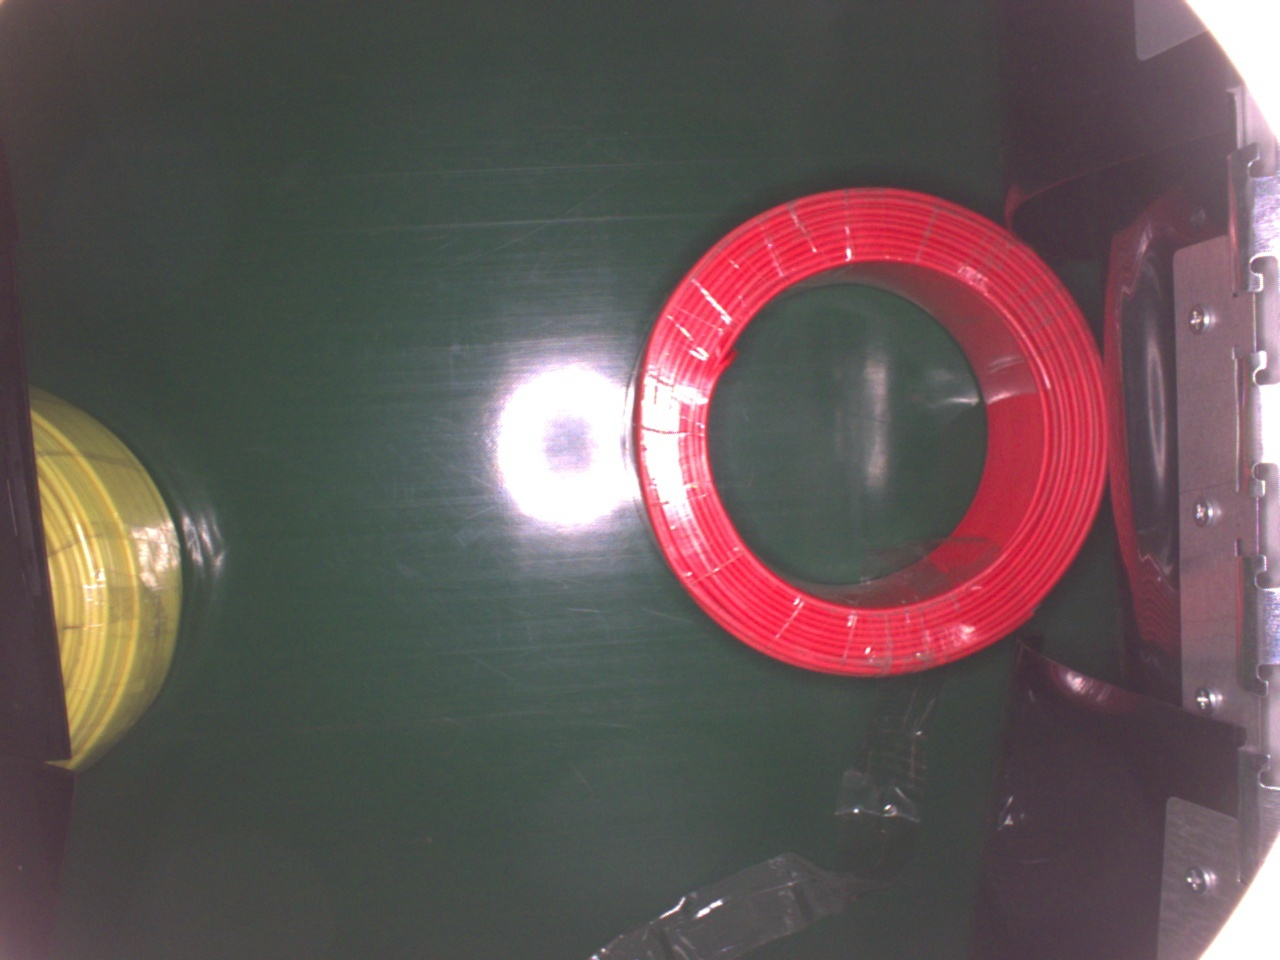red: (626, 183, 1100, 683)
yellow: (32, 383, 177, 770)
